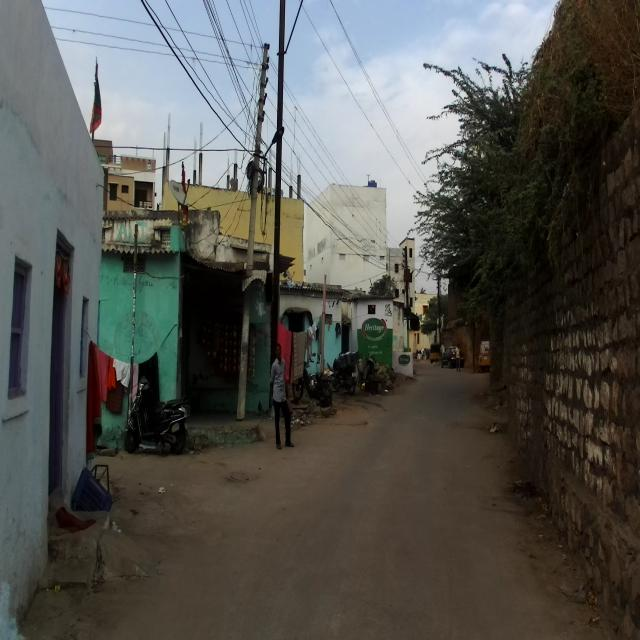motorcycle ahead at: (123, 376, 189, 456)
person ahead at: (268, 336, 294, 452)
